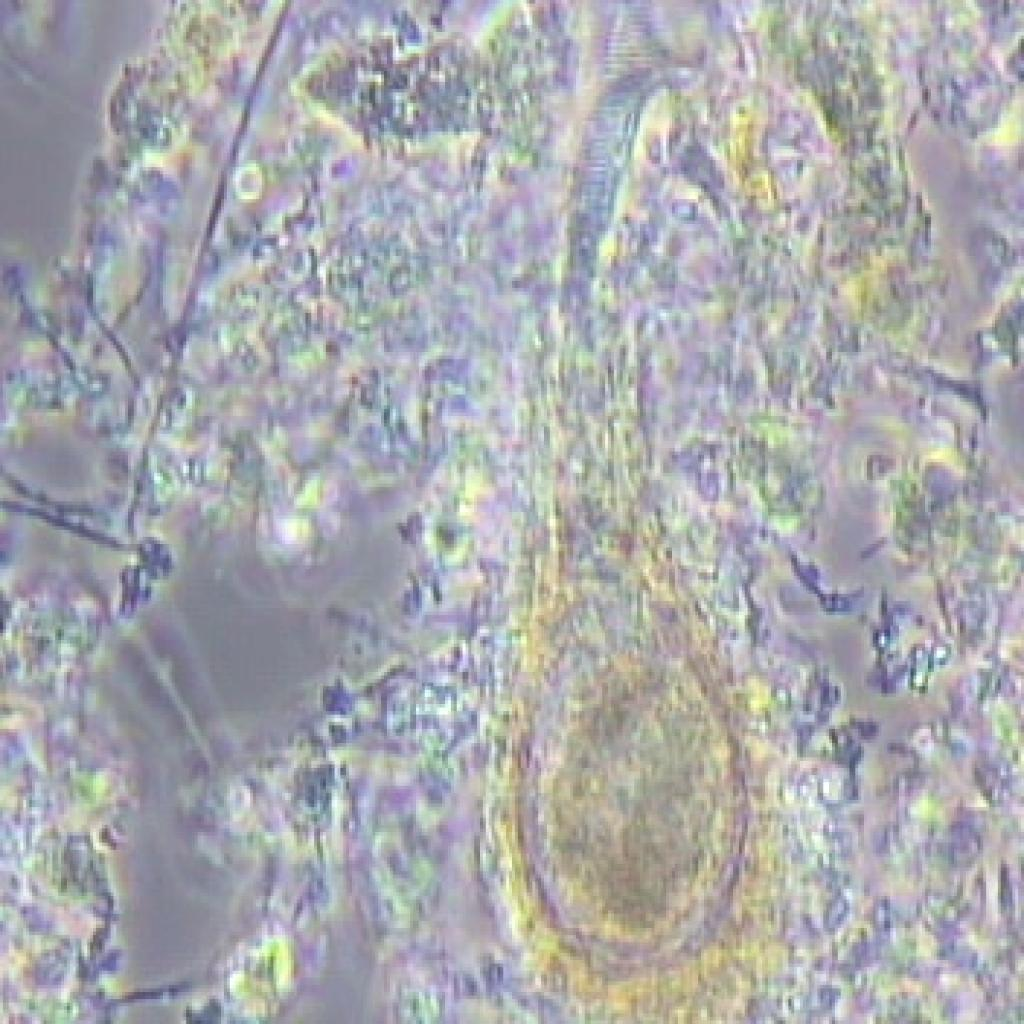Chaetopira: (461, 71, 793, 1024)
